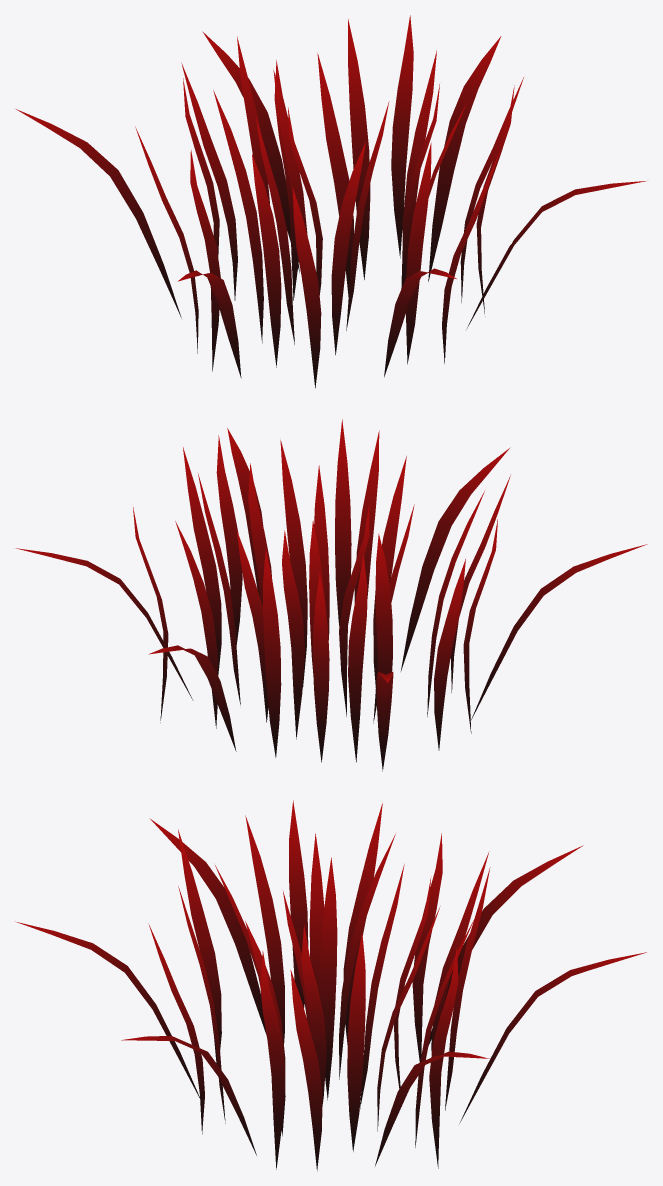
File: Trava_2.fbx
3 views of the same model, one above another, from view 1: azimuth 30°, elevation 25°; view 2: azimuth 150°, elevation 25°; view 3: azimuth 270°, elevation 25° (orthographic). The views are drawn at different scales.
Parts seen in each view (by area): view 1: Tráva2; view 2: Tráva2; view 3: Tráva2.
Part boxes in pixels (x1,y1,x2,y2): Tráva2: (16, 15, 646, 388); Tráva2: (16, 419, 647, 771); Tráva2: (15, 800, 646, 1170).
Bounding box in the file's own units: 508 × 236 × 565.
